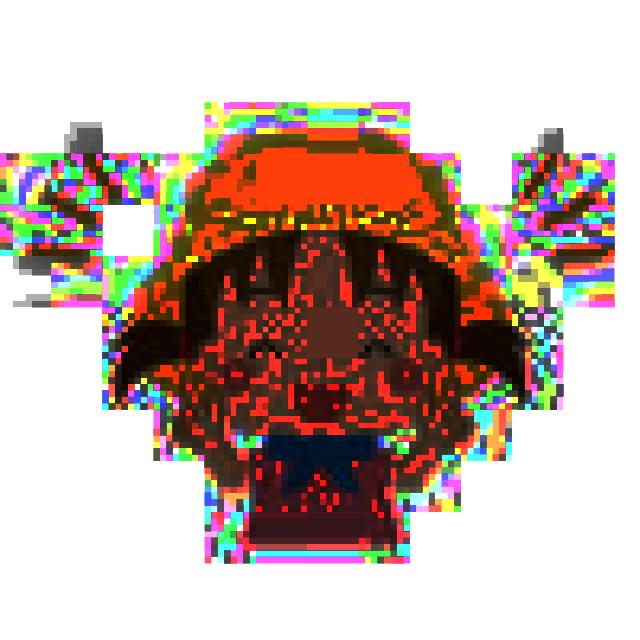TOPI: (102, 103, 518, 410)
